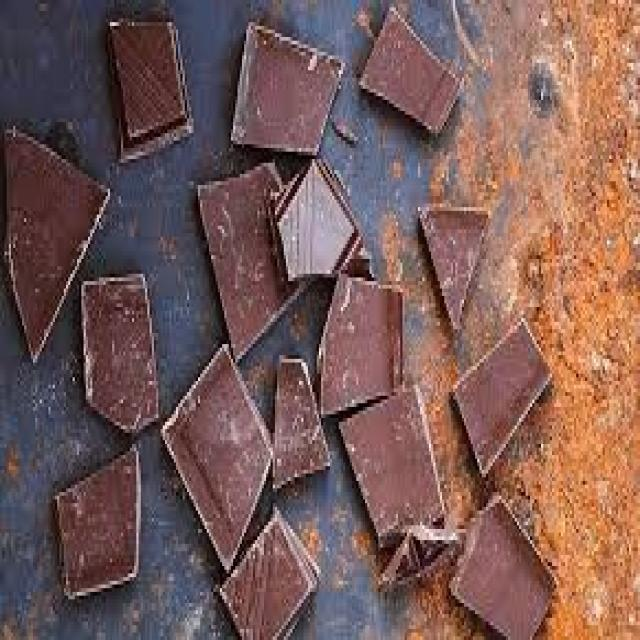Chocolate: (0, 6, 554, 640)
